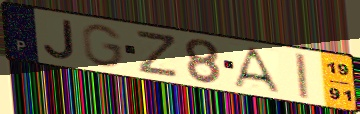8: (183, 37, 223, 85)
A: (231, 45, 284, 96)
G: (80, 23, 126, 70)
I: (292, 51, 311, 101)
J: (41, 18, 78, 62)
Z: (136, 30, 180, 80)
